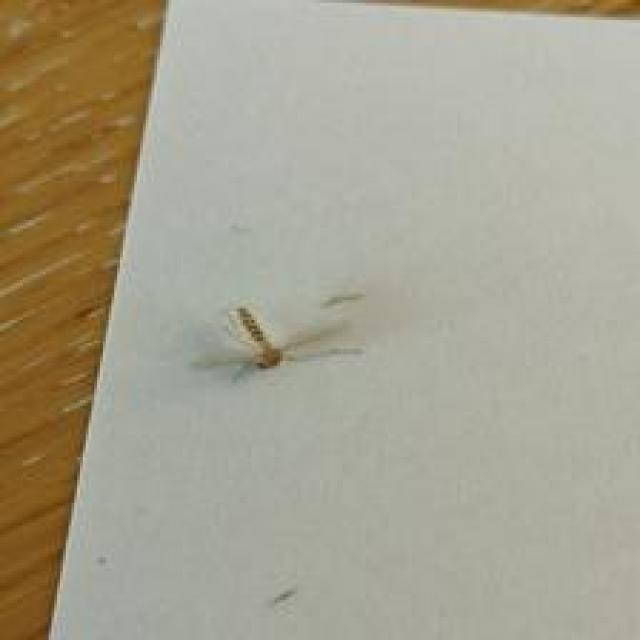Culex: (192, 290, 368, 381)
